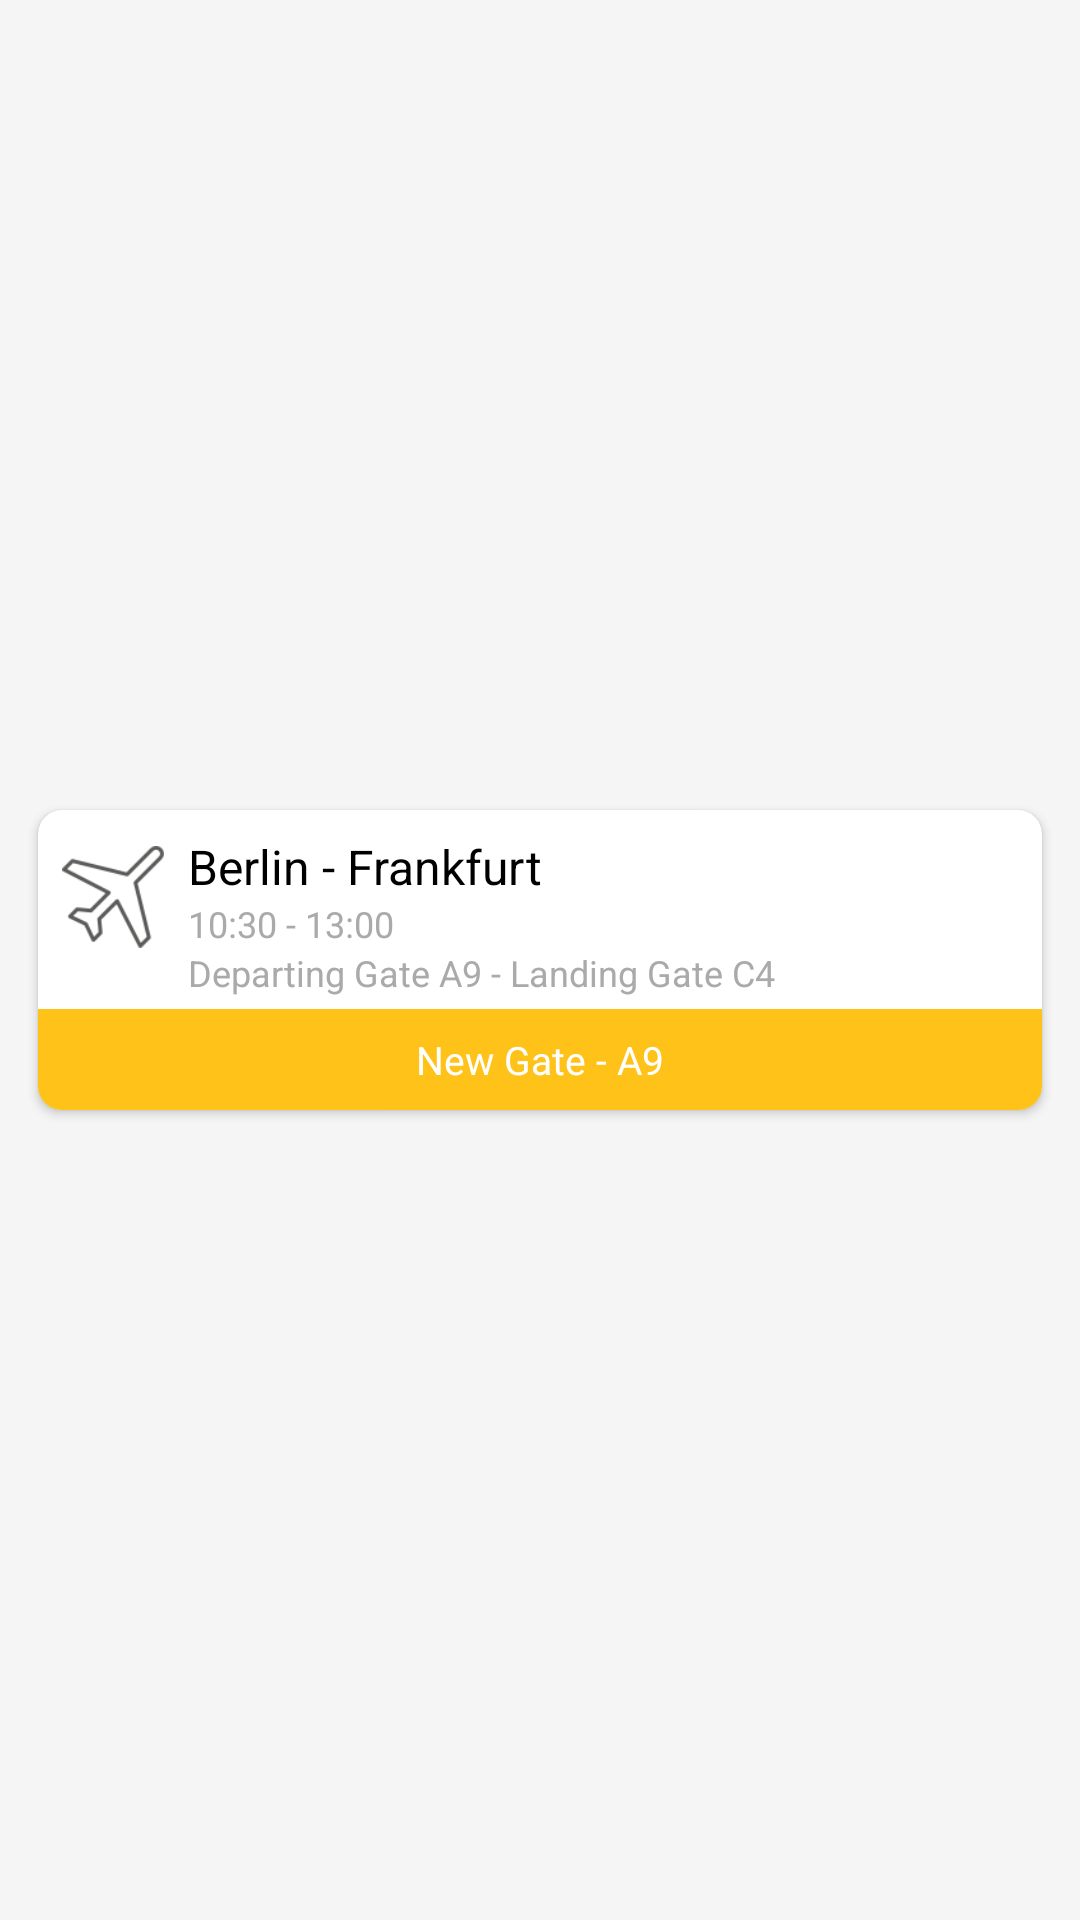

Locate icon controls on the screen. Image size 1080px×1920px, boxes as (x1, y1, x2, y2).
plane: (62, 846, 164, 948)
